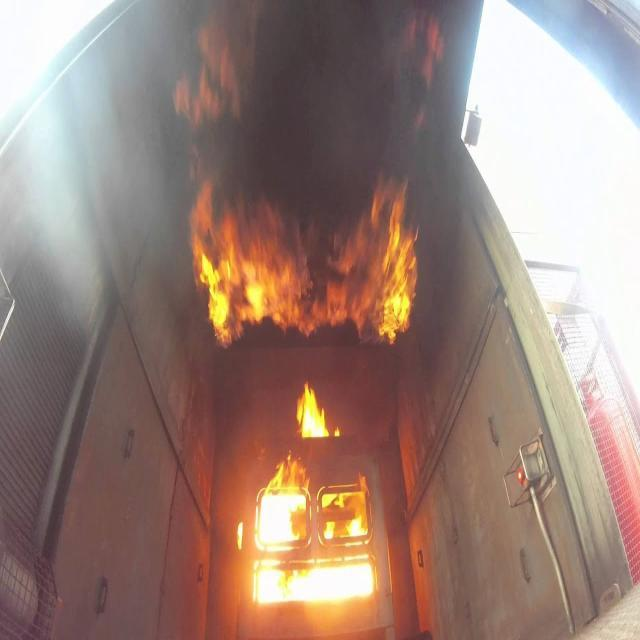Fire: (190, 172, 420, 348), (251, 454, 376, 606), (172, 20, 242, 126), (408, 14, 446, 126), (295, 378, 342, 436), (236, 520, 244, 550)
Smoke: (176, 2, 446, 228)
